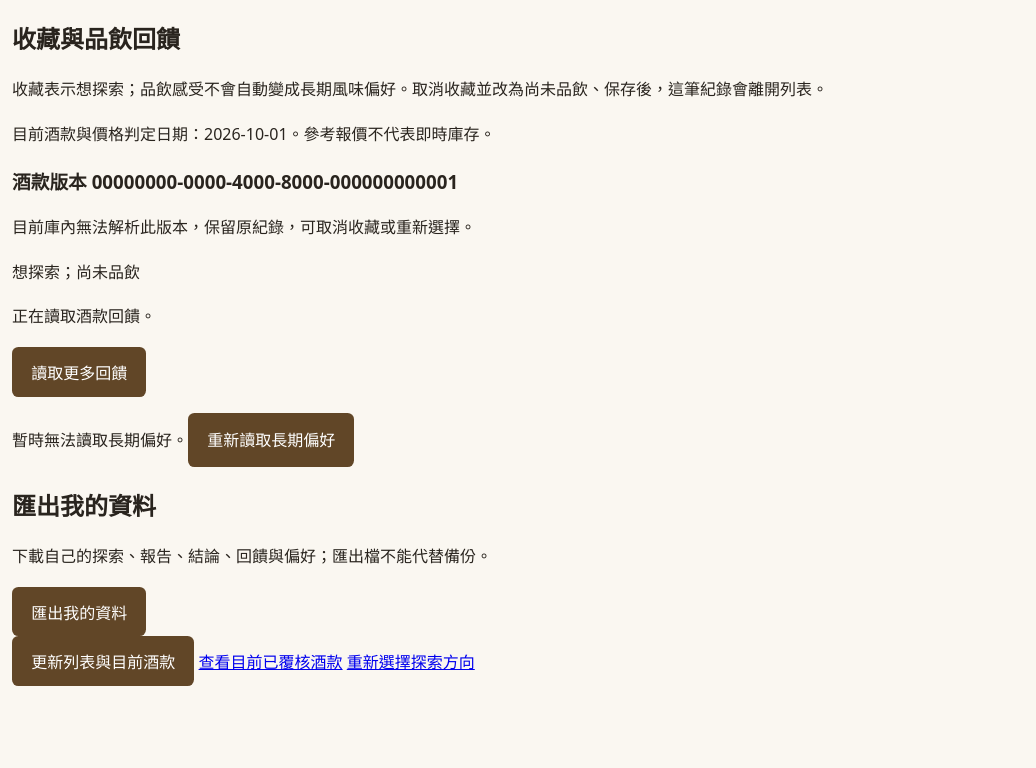
Test: a failed first-page refresh retries that page rather than appending the old next cursor
The image size is (1036, 768).
Check: the button "讀取更多回饋" is shown, box 12,347 -> 146,397
Click the button "更新列表與目前酒款": (103, 661) 12,636 -> 194,686
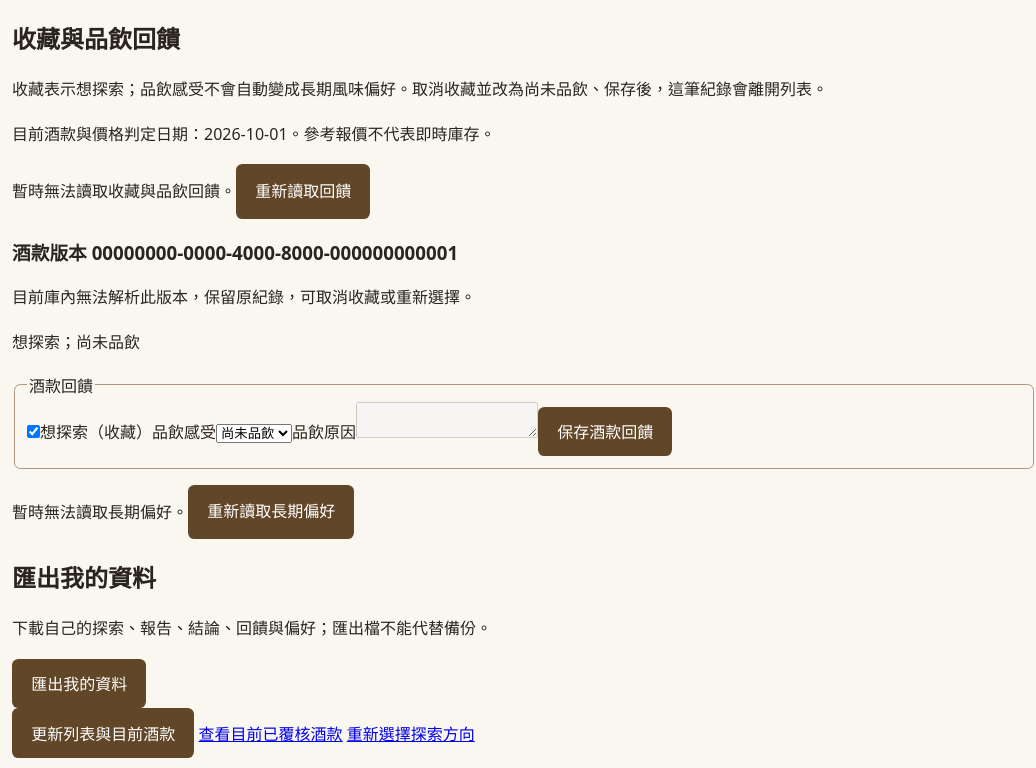
Click the button "重新讀取回饋": (303, 192) 236,164 -> 370,219
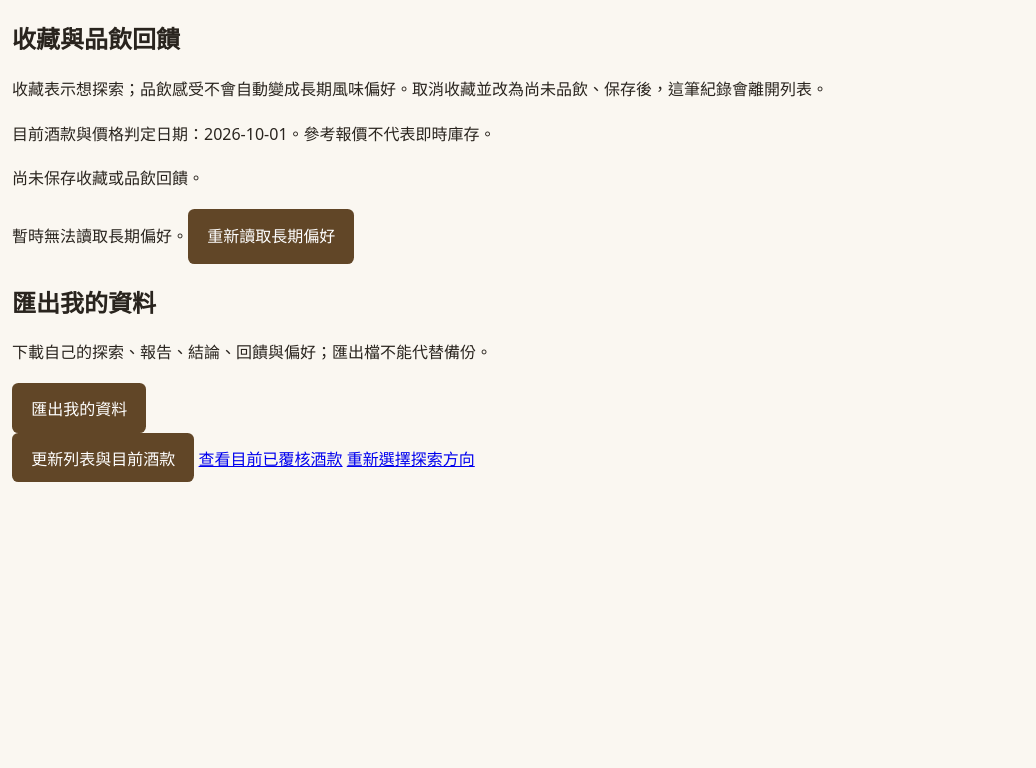
Check: the text "尚未保存收藏或品飲回饋。" is shown, box 12,167 -> 204,189
